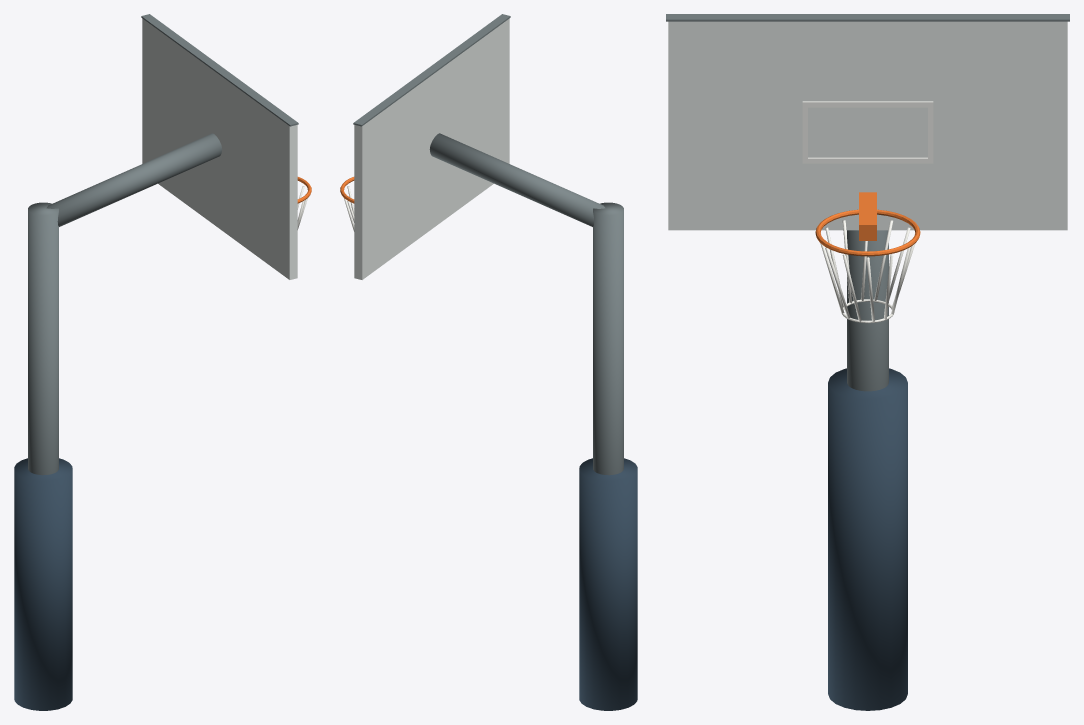
The model's file is basketball-hoop.glb.
3 views of the same model, side by side, from view 1: azimuth 30°, elevation 25°; view 2: azimuth 150°, elevation 25°; view 3: azimuth 270°, elevation 25° (orthographic). The views are drawn at different scales.
Visible parts, largest first — view 1: hoop_Backboard, hoop_Galvanized_Steel, hoop_Post_Padding; view 2: hoop_Backboard, hoop_Galvanized_Steel, hoop_Post_Padding; view 3: hoop_Backboard, hoop_Post_Padding, hoop_Galvanized_Steel, hoop_Net_Cord, hoop_Court_White, hoop_Safety_Orange.
Part boxes in pixels (bbox=[...]): hoop_Backboard: bbox=[142, 18, 297, 279]; hoop_Galvanized_Steel: bbox=[28, 14, 298, 475]; hoop_Post_Padding: bbox=[14, 458, 72, 710]; hoop_Backboard: bbox=[354, 18, 509, 279]; hoop_Galvanized_Steel: bbox=[353, 14, 623, 475]; hoop_Post_Padding: bbox=[579, 458, 637, 710]; hoop_Backboard: bbox=[668, 21, 1067, 230]; hoop_Post_Padding: bbox=[828, 368, 907, 710]; hoop_Galvanized_Steel: bbox=[666, 14, 1069, 391]; hoop_Net_Cord: bbox=[820, 220, 915, 323]; hoop_Court_White: bbox=[802, 101, 933, 163]; hoop_Safety_Orange: bbox=[815, 192, 920, 256].
Bounding box in the file's own units: 2.04 × 3.95 × 1.82.
